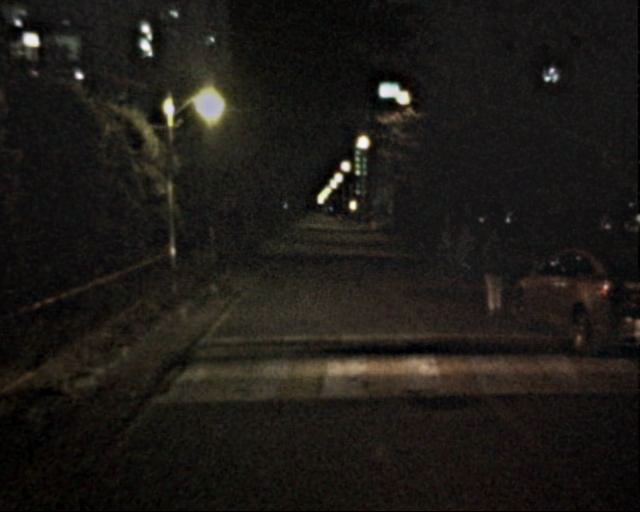person: (476, 225, 514, 318), (452, 221, 484, 293), (430, 226, 461, 291)
